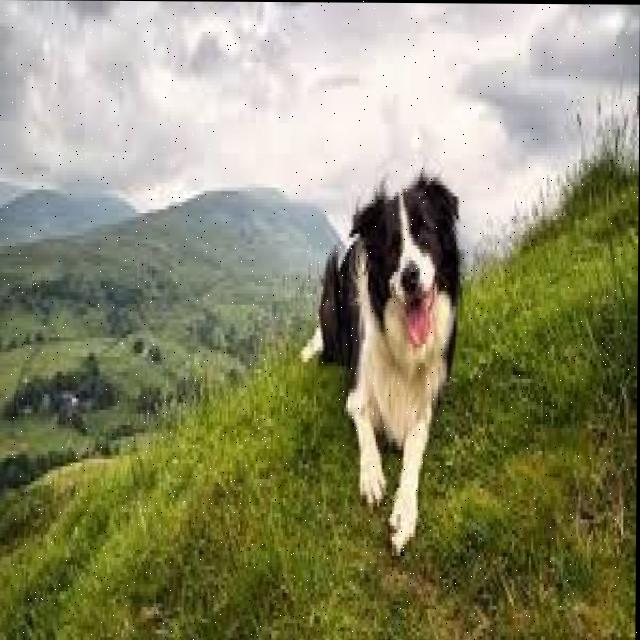BORDER_COLLIE: (301, 149, 468, 555)
